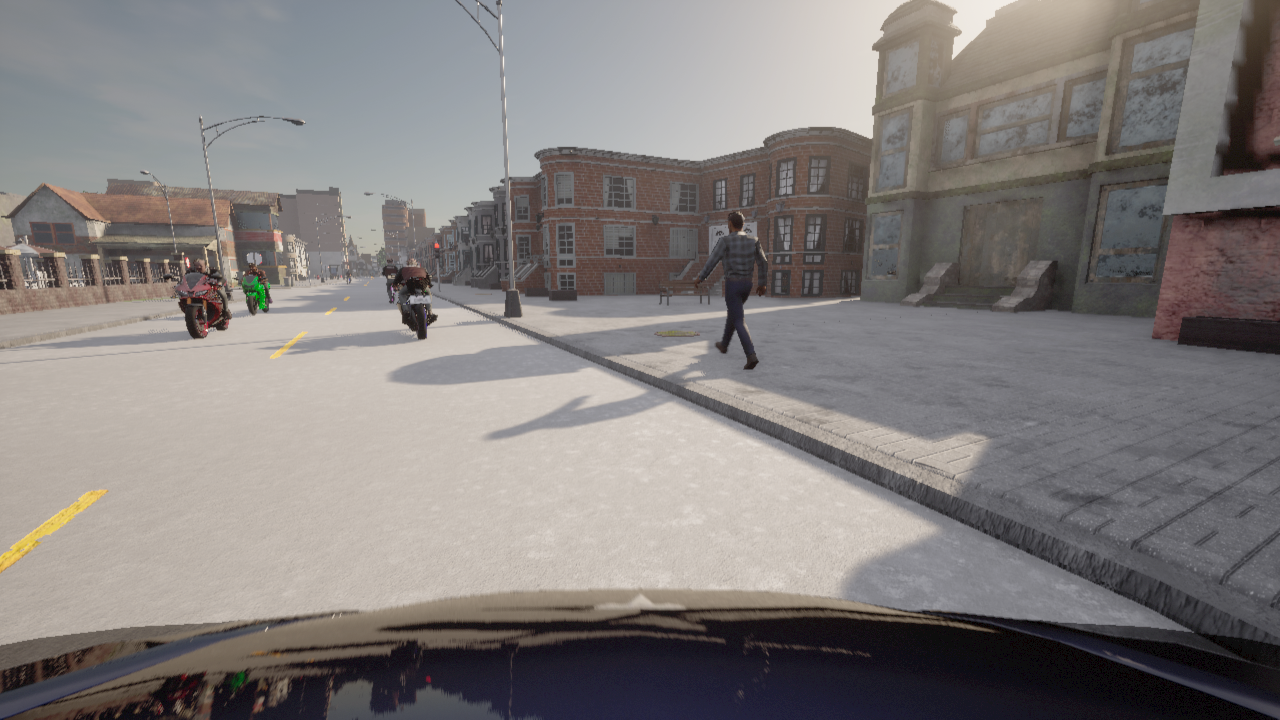cyclist: (0, 588, 1279, 719), (162, 273, 234, 338), (388, 274, 437, 339), (232, 275, 270, 315), (389, 287, 394, 303), (348, 278, 349, 283)
pedestrian: (694, 211, 767, 369)
